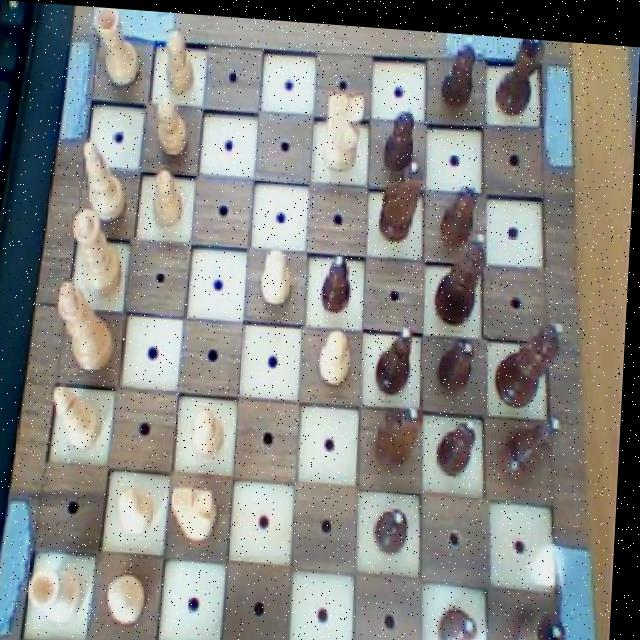bishop: (502, 398, 568, 481), (376, 315, 422, 395)
black-bishop: (496, 307, 569, 408)
black-king: (377, 150, 432, 239), (376, 395, 432, 470)
black-knight: (438, 27, 480, 108), (383, 92, 423, 169), (438, 325, 483, 393), (439, 407, 483, 474), (439, 174, 481, 241), (320, 247, 357, 312), (378, 496, 418, 552), (441, 592, 486, 640)
black-pawn: (432, 221, 493, 326)
black-queen: (492, 29, 548, 110), (507, 593, 574, 640)
black-rook: (75, 134, 136, 227), (52, 377, 114, 456)
white-bishop: (56, 276, 124, 375)
white-king: (315, 80, 371, 174), (173, 476, 229, 548)
white-knight: (157, 23, 204, 98), (148, 91, 197, 162), (148, 162, 192, 233), (110, 566, 157, 629), (118, 477, 164, 541), (258, 239, 300, 309), (189, 399, 235, 460), (319, 320, 359, 389)
white-pawn: (65, 203, 135, 304)
white-queen: (86, 5, 143, 89), (27, 560, 93, 627)
